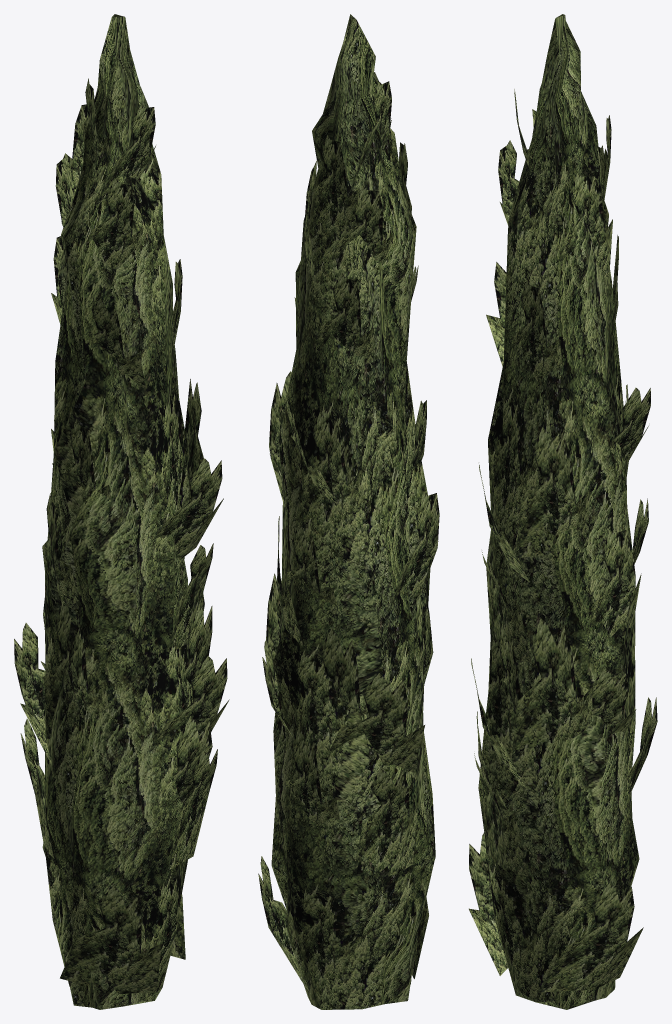
File: Cyprus_Tree_01.FBX
The picture shows the model from 3 angles, left to right: view 1: azimuth 30°, elevation 25°; view 2: azimuth 150°, elevation 25°; view 3: azimuth 270°, elevation 25°; orthographic projection.
Visible parts, largest first — view 1: Cyprus_Tree_01; view 2: Cyprus_Tree_01; view 3: Cyprus_Tree_01.
Boxes of the visible parts, x1,y1,x2,y2 form: Cyprus_Tree_01: [14, 14, 229, 1009]; Cyprus_Tree_01: [258, 14, 439, 1009]; Cyprus_Tree_01: [469, 14, 657, 1009].
Bounding box in the file's own units: 1.48 × 8.36 × 1.47.
